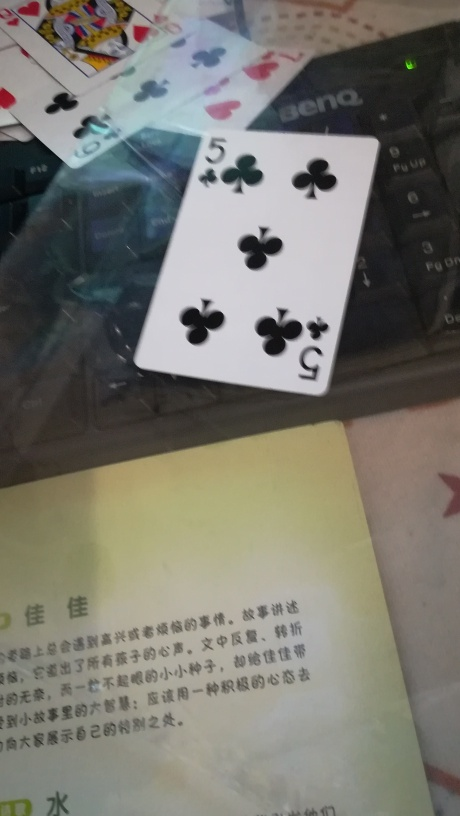mh 5: (132, 130, 376, 402)
